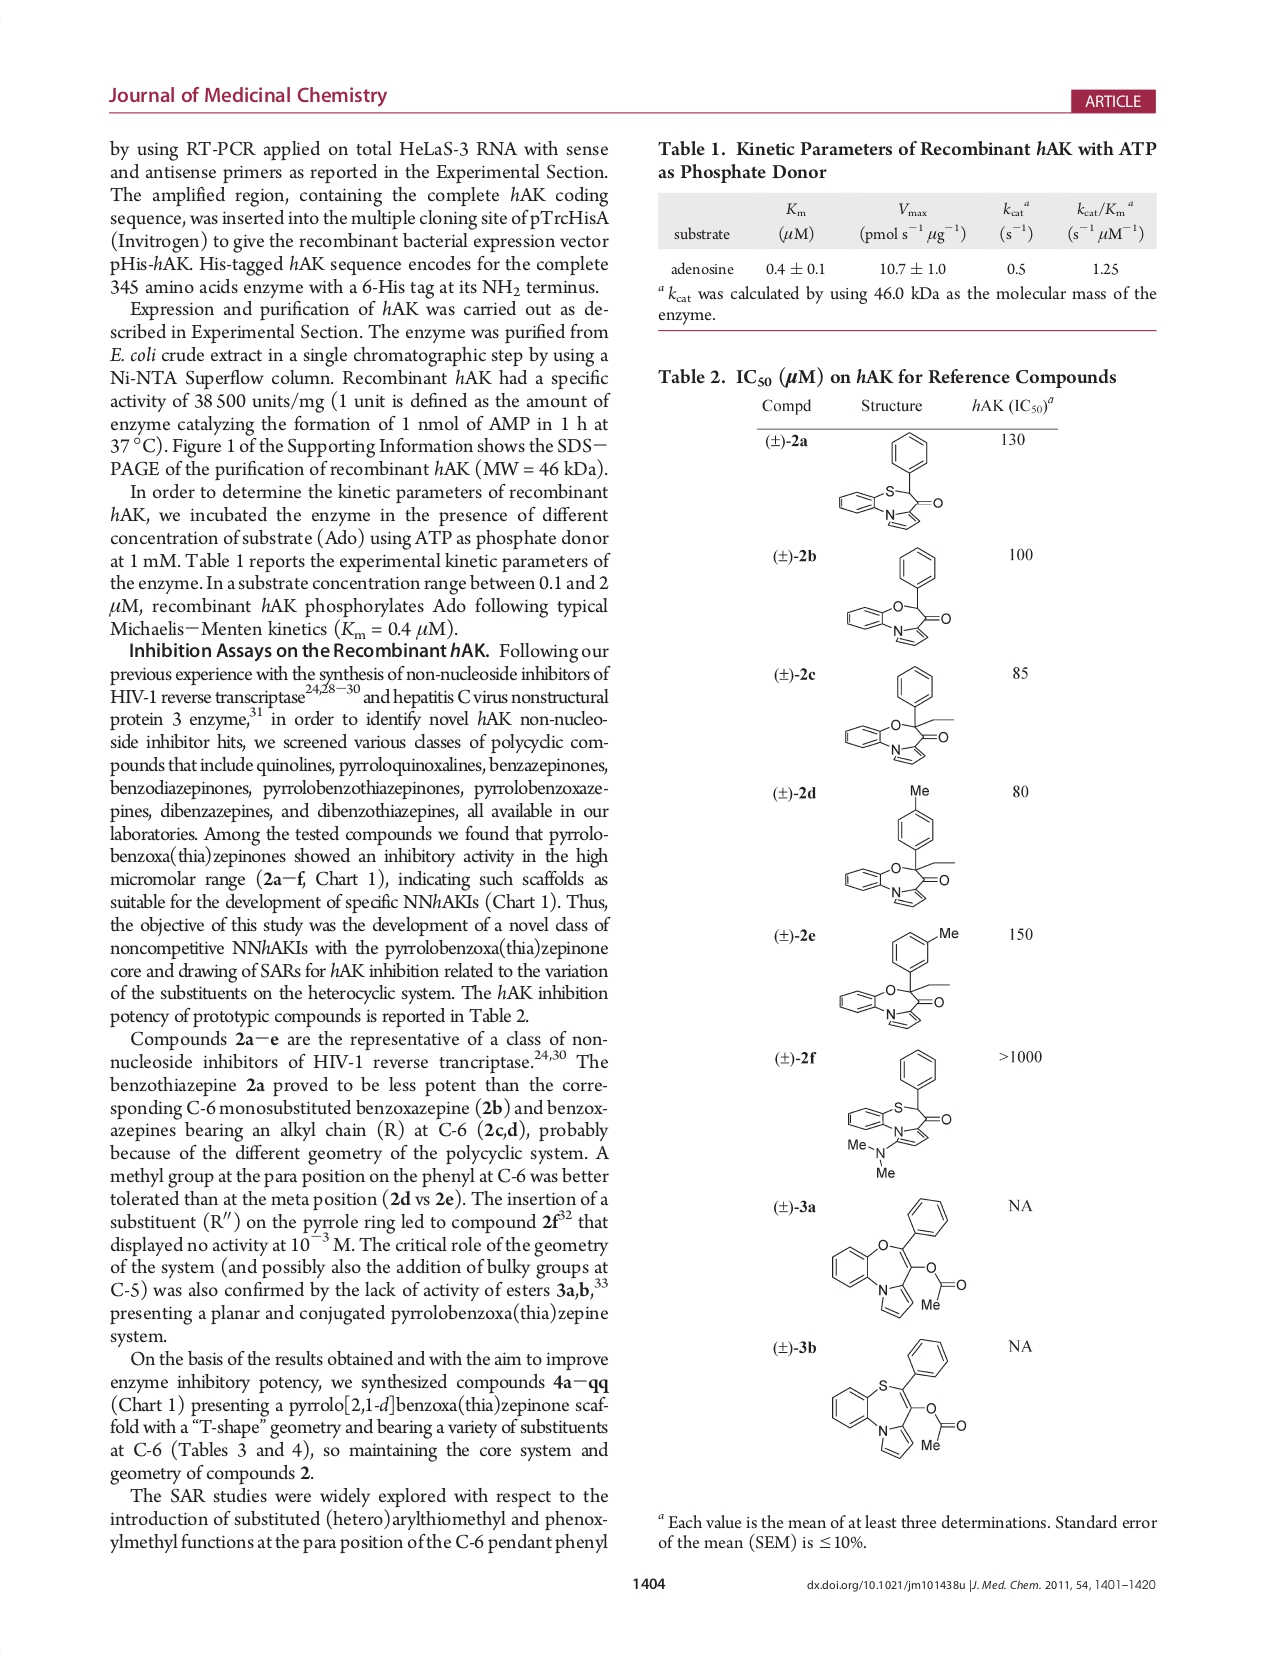exist_molecular: (826, 1333, 973, 1463), (826, 1192, 969, 1321), (842, 1045, 953, 1181), (842, 782, 957, 910), (835, 923, 964, 1032), (842, 664, 960, 767), (843, 545, 953, 650), (836, 431, 946, 531)
